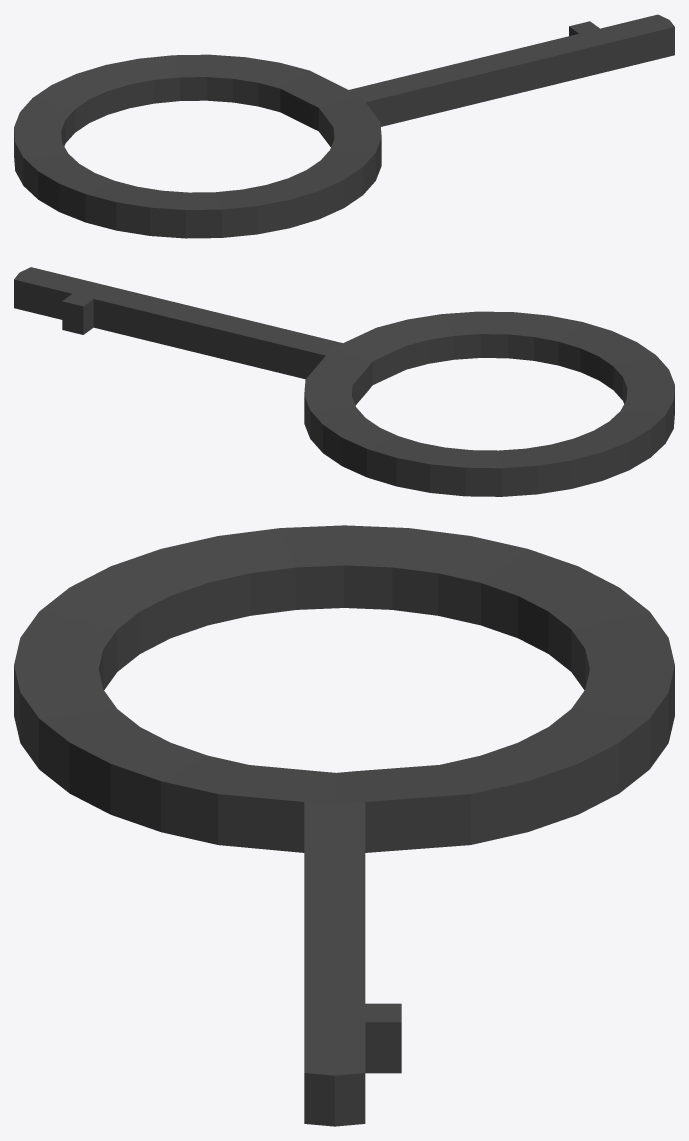
File: KeyAnim.glb
The picture shows the model from 3 angles, top to bottom: view 1: azimuth 30°, elevation 25°; view 2: azimuth 150°, elevation 25°; view 3: azimuth 270°, elevation 25°; orthographic projection. The views are drawn at different scales.
Parts seen in each view (by area): view 1: Cylinder; view 2: Cylinder; view 3: Cylinder.
Part boxes in pixels (<box>): Cylinder: <box>14,14,674,238</box>; Cylinder: <box>14,267,674,496</box>; Cylinder: <box>14,525,674,1126</box>.
Size of the model in its own units: 0.0541 by 0.00234 by 0.0275.
Materials: 1 (1 with a texture image).
